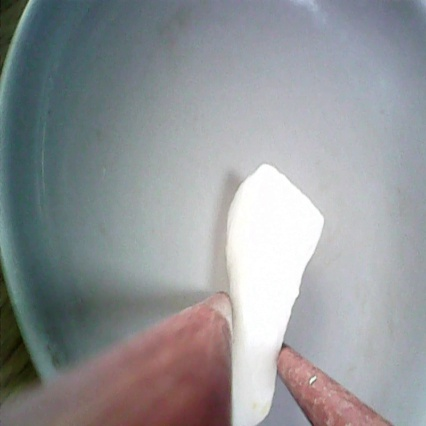white_chinese-yam: (217, 161, 329, 426)
